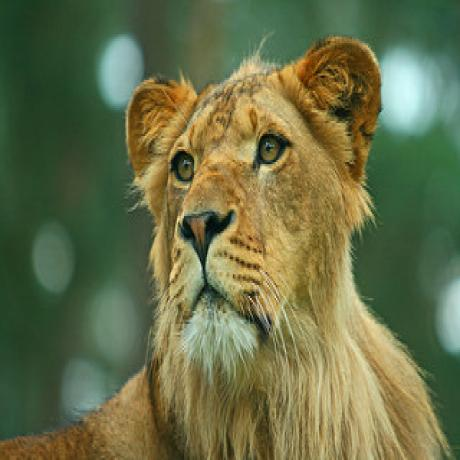Lion: (0, 35, 445, 460)
